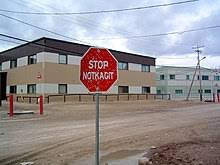stop sign: (80, 47, 118, 93)
